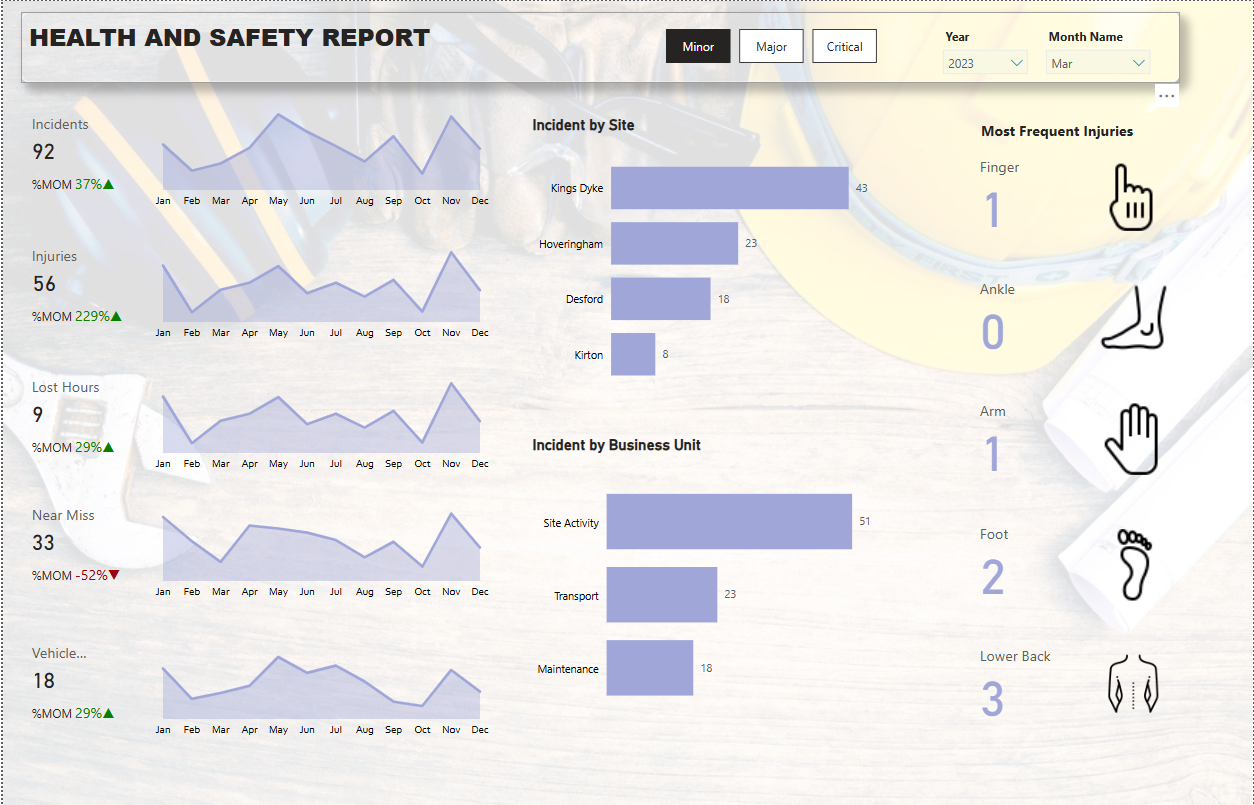

The page's visual inventory and layout, read from the dashboard file:
{"tool":"powerbi","page":{"name":"Minor","canvas":[1400,900],"ordinal":0},"visuals":[{"type":"textbox","box":[20.2,12.5,1297.1,78.8],"z":0},{"type":"cardVisual","fields":{"Data":["_measure.Total Incident"]},"box":[20,101.2,141.2,138.8],"z":0,"group":"g3"},{"type":"cardVisual","fields":{"Data":["CountNonNull(heath.Most Frequent Injury)"]},"box":[1081.2,162.4,235.3,105.9],"z":0,"group":"g6"},{"type":"cardVisual","fields":{"Data":["_measure.Total Injury"]},"box":[20,248.2,141.2,138.8],"z":0,"group":"g2"},{"type":"cardVisual","fields":{"Data":["_measure.Total Lost Hours"]},"box":[20,395.3,141.2,138.8],"z":0,"group":"g4"},{"type":"cardVisual","fields":{"Data":["_measure.Total Near Miss"]},"box":[20,540,141.2,137.6],"z":0,"group":"g5"},{"type":"cardVisual","fields":{"Data":["_measure.Total Vehicle Incidents"]},"box":[20,692.9,141.2,138.8],"z":0,"group":"g1"},{"type":"slicer","fields":{"Values":["date.MonthName"]},"box":[1157.7,26,136.5,150],"z":1000},{"type":"areaChart","title":"Total Incident by Month","fields":{"Y":["_measure.Total Incident"],"Category":["date.MonthName"]},"box":[161.2,101.2,390.6,138.8],"z":1000,"group":"g3"},{"type":"areaChart","title":"Total Injuries by Month","fields":{"Category":["date.MonthName"],"Y":["_measure.Total Injury"]},"box":[161.2,248.2,390.6,138.8],"z":1000,"group":"g2"},{"type":"cardVisual","fields":{"Data":["CountNonNull(heath.Most Frequent Injury)"]},"box":[1081.2,299.2,236.5,105.9],"z":1000,"group":"g6"},{"type":"areaChart","title":"Total Injuries by Month","fields":{"Category":["date.MonthName"],"Y":["_measure.Total Injury"]},"box":[161.2,395.3,390.6,138.8],"z":1000,"group":"g4"},{"type":"areaChart","title":"Total Lost Hours by Month","fields":{"Category":["date.MonthName"],"Y":["_measure.Total Near Miss"]},"box":[161.2,538.8,390.6,138.8],"z":1000,"group":"g5"},{"type":"areaChart","title":"Total Vehicle Incidents by Month","fields":{"Category":["date.MonthName"],"Y":["_measure.Total Vehicle Incidents"]},"box":[161.2,692.9,390.6,138.8],"z":1000,"group":"g1"},{"type":"slicer","fields":{"Values":["date.Year"]},"box":[1042.3,26,115.4,150],"z":2000},{"type":"cardVisual","fields":{"Data":["CountNonNull(heath.Most Frequent Injury)"]},"box":[1081.2,435.9,236.5,105.9],"z":2000,"group":"g6"},{"type":"cardVisual","fields":{"Data":["CountNonNull(heath.Most Frequent Injury)"]},"box":[1081.2,572.7,236.5,105.9],"z":3000,"group":"g6"},{"type":"group","id":"g1","title":"Group 1","box":[20,692.9,531.8,138.8],"z":3000},{"type":"group","id":"g2","title":"Group 4","box":[20,248.2,531.8,138.8],"z":4000},{"type":"cardVisual","fields":{"Data":["CountNonNull(heath.Most Frequent Injury)"]},"box":[1081.2,709.5,236.5,105.9],"z":4000,"group":"g6"},{"type":"group","id":"g3","title":"Group 5","box":[20,101.2,531.8,138.8],"z":5000},{"type":"clusteredBarChart","title":"Incident by  Site","fields":{"Y":["_measure.Total Incident"],"Category":["heath. Site"]},"box":[588.2,128.2,390.6,322.4],"z":6000},{"type":"clusteredBarChart","title":"Incident by  Business Unit","fields":{"Y":["_measure.Total Incident"],"Category":["heath.Business Unit"]},"box":[588.2,487.1,390.6,331.8],"z":7000},{"type":"textbox","box":[1042.4,128.2,275.3,34.1],"z":8000},{"type":"group","id":"g4","title":"Group 2","box":[20,395.3,531.8,138.8],"z":9000},{"type":"group","id":"g5","title":"Group 3","box":[20,538.8,531.8,138.8],"z":10000},{"type":"group","id":"g6","title":"Group 6","box":[1081.2,162.4,236.5,652.9],"z":11000},{"type":"pageNavigator","box":[742.4,31.8,236.5,38.8],"z":12000}]}

Visuals, with their boxes in screenshot pixels (x1, y1, x2, y2), scaled from the page's 1400x900 canvas onto the 1254x805 screenshot:
textbox: <bbox>18, 11, 1180, 82</bbox>
cardVisual - _measure.Total Incident: <bbox>18, 91, 144, 215</bbox>
cardVisual - CountNonNull(heath.Most Frequent Injury): <bbox>968, 145, 1179, 240</bbox>
cardVisual - _measure.Total Injury: <bbox>18, 222, 144, 346</bbox>
cardVisual - _measure.Total Lost Hours: <bbox>18, 354, 144, 478</bbox>
cardVisual - _measure.Total Near Miss: <bbox>18, 483, 144, 606</bbox>
cardVisual - _measure.Total Vehicle Incidents: <bbox>18, 620, 144, 744</bbox>
slicer - date.MonthName: <bbox>1037, 23, 1159, 157</bbox>
"Total Incident by Month" areaChart: <bbox>144, 91, 494, 215</bbox>
"Total Injuries by Month" areaChart: <bbox>144, 222, 494, 346</bbox>
cardVisual - CountNonNull(heath.Most Frequent Injury): <bbox>968, 268, 1180, 362</bbox>
"Total Injuries by Month" areaChart: <bbox>144, 354, 494, 478</bbox>
"Total Lost Hours by Month" areaChart: <bbox>144, 482, 494, 606</bbox>
"Total Vehicle Incidents by Month" areaChart: <bbox>144, 620, 494, 744</bbox>
slicer - date.Year: <bbox>934, 23, 1037, 157</bbox>
cardVisual - CountNonNull(heath.Most Frequent Injury): <bbox>968, 390, 1180, 485</bbox>
cardVisual - CountNonNull(heath.Most Frequent Injury): <bbox>968, 512, 1180, 607</bbox>
"Group 1" group: <bbox>18, 620, 494, 744</bbox>
"Group 4" group: <bbox>18, 222, 494, 346</bbox>
cardVisual - CountNonNull(heath.Most Frequent Injury): <bbox>968, 635, 1180, 729</bbox>
"Group 5" group: <bbox>18, 91, 494, 215</bbox>
"Incident by  Site" clusteredBarChart: <bbox>527, 115, 877, 403</bbox>
"Incident by  Business Unit" clusteredBarChart: <bbox>527, 436, 877, 732</bbox>
textbox: <bbox>934, 115, 1180, 145</bbox>
"Group 2" group: <bbox>18, 354, 494, 478</bbox>
"Group 3" group: <bbox>18, 482, 494, 606</bbox>
"Group 6" group: <bbox>968, 145, 1180, 729</bbox>
pageNavigator: <bbox>665, 28, 877, 63</bbox>
